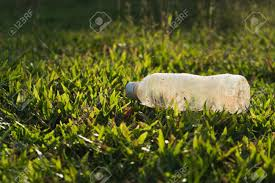plastic_bottle: (123, 66, 255, 123)
